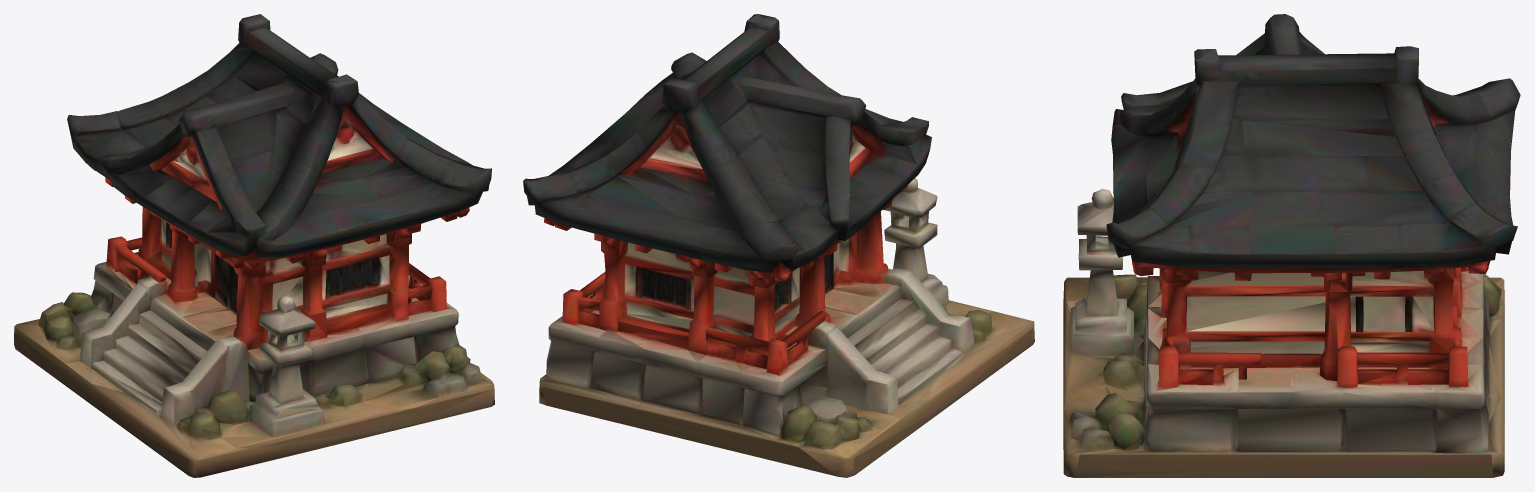
The model's file is temple.glb.
3 views of the same model, side by side, from view 1: azimuth 30°, elevation 25°; view 2: azimuth 150°, elevation 25°; view 3: azimuth 270°, elevation 25° (orthographic). The views are drawn at different scales.
Visible parts, largest first — view 1: tripo_node_17e54a82-fa21-4404-9f73-d9f16a7a50b8; view 2: tripo_node_17e54a82-fa21-4404-9f73-d9f16a7a50b8; view 3: tripo_node_17e54a82-fa21-4404-9f73-d9f16a7a50b8.
Boxes of the visible parts, x1=… form: tripo_node_17e54a82-fa21-4404-9f73-d9f16a7a50b8: x1=14, y1=14, x2=494, y2=477; tripo_node_17e54a82-fa21-4404-9f73-d9f16a7a50b8: x1=523, y1=14, x2=1034, y2=477; tripo_node_17e54a82-fa21-4404-9f73-d9f16a7a50b8: x1=1063, y1=14, x2=1520, y2=477.
Size of the model in its own units: 0.9758 by 0.8687 by 0.9818.
1 material, 1 textured.
